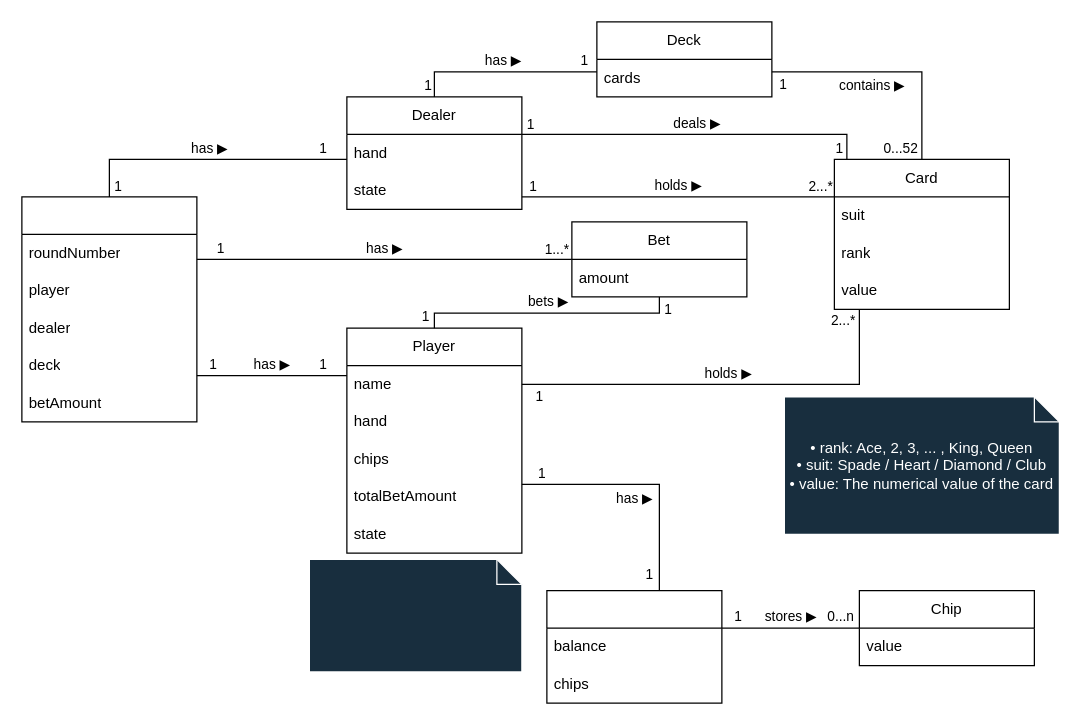
Some shapes in this 1081 by 725 pixel diagram are drawn without their labels. Each missing label, with the box of its shape:
Game: (21, 196, 197, 422)
Safe: (546, 589, 722, 703)
state description (1) bust (2) split (3) double down (4) surrender: (308, 558, 522, 672)
